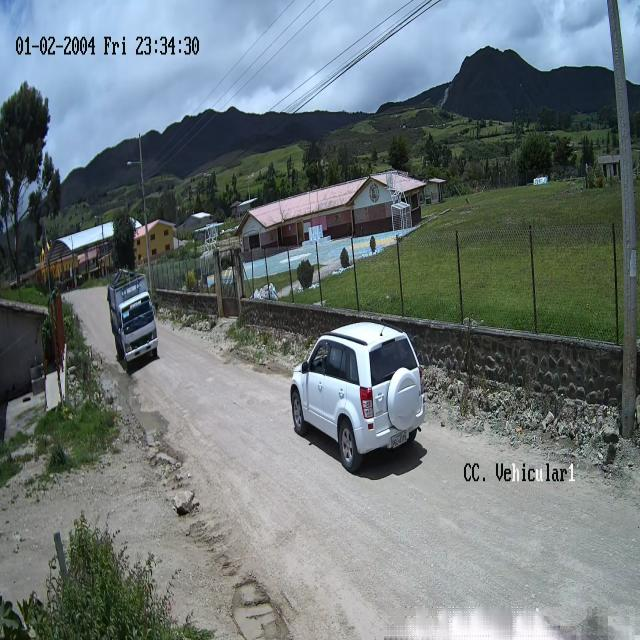SUV: (290, 322, 426, 472)
TRUCK: (106, 270, 158, 376)
